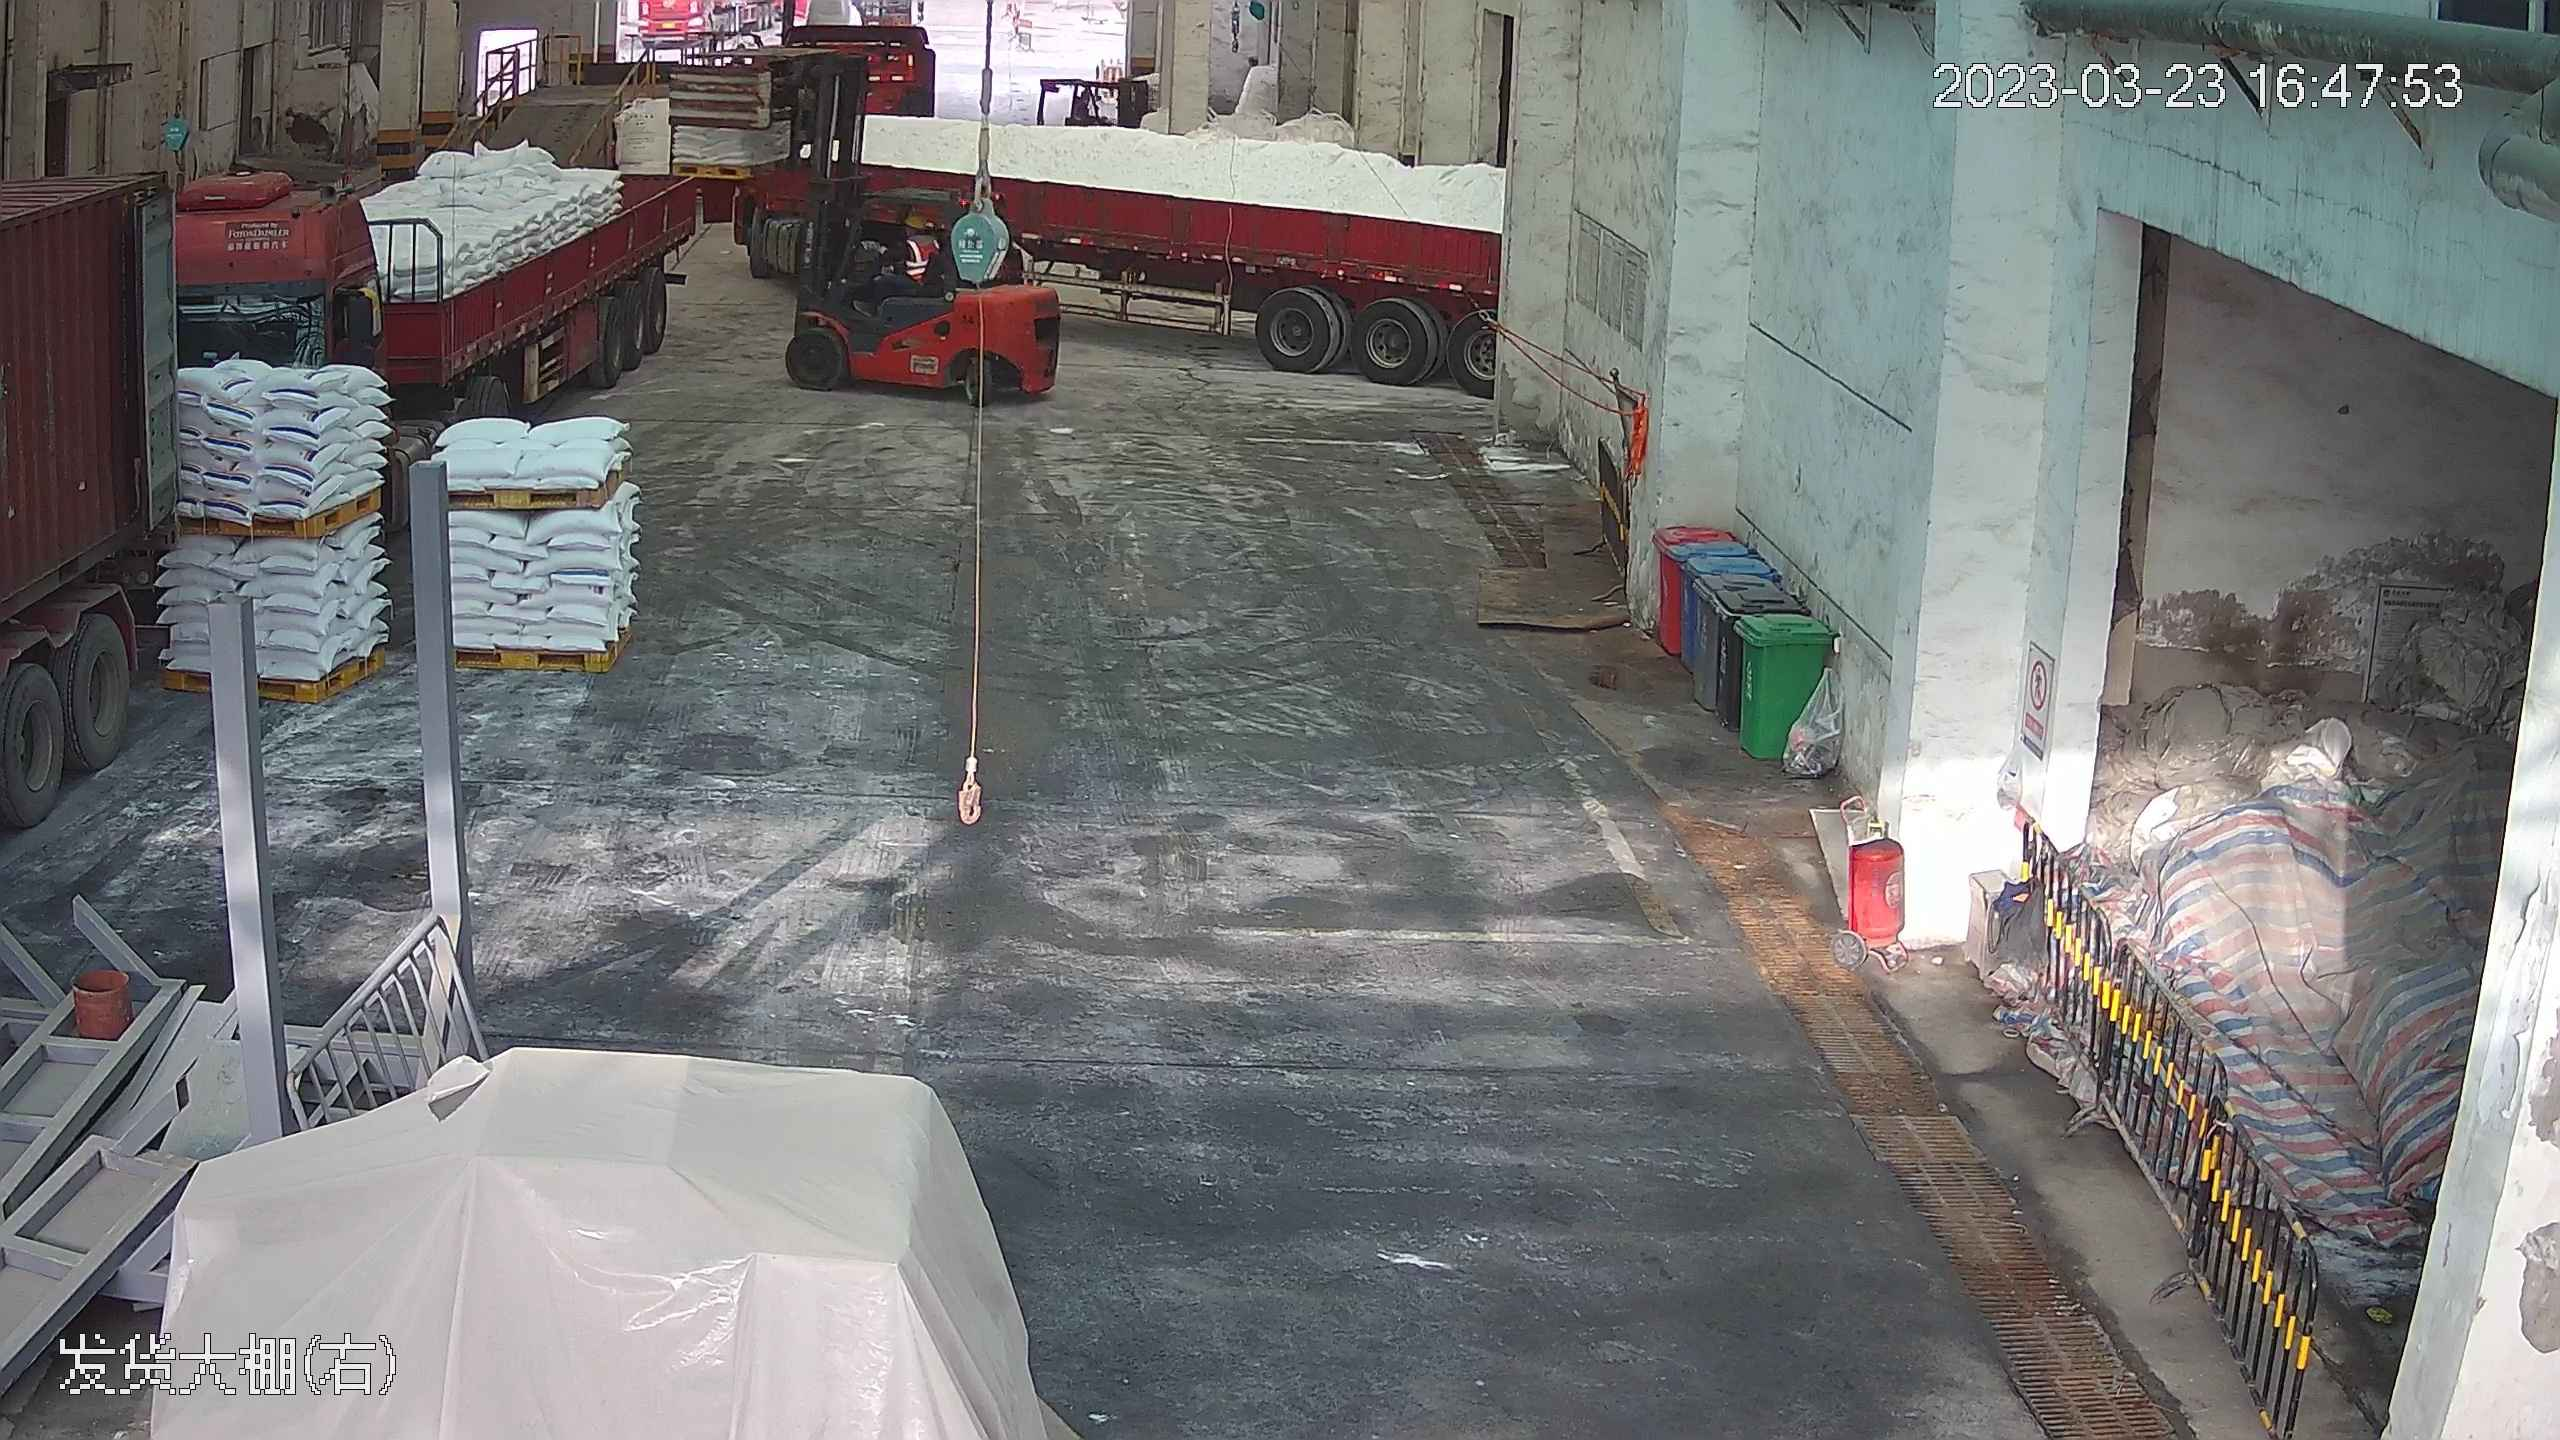head: (896, 209, 941, 262)
helmet: (905, 209, 927, 231)
people: (865, 208, 945, 308)
truck: (924, 7, 1508, 384), (1, 31, 205, 1026)
